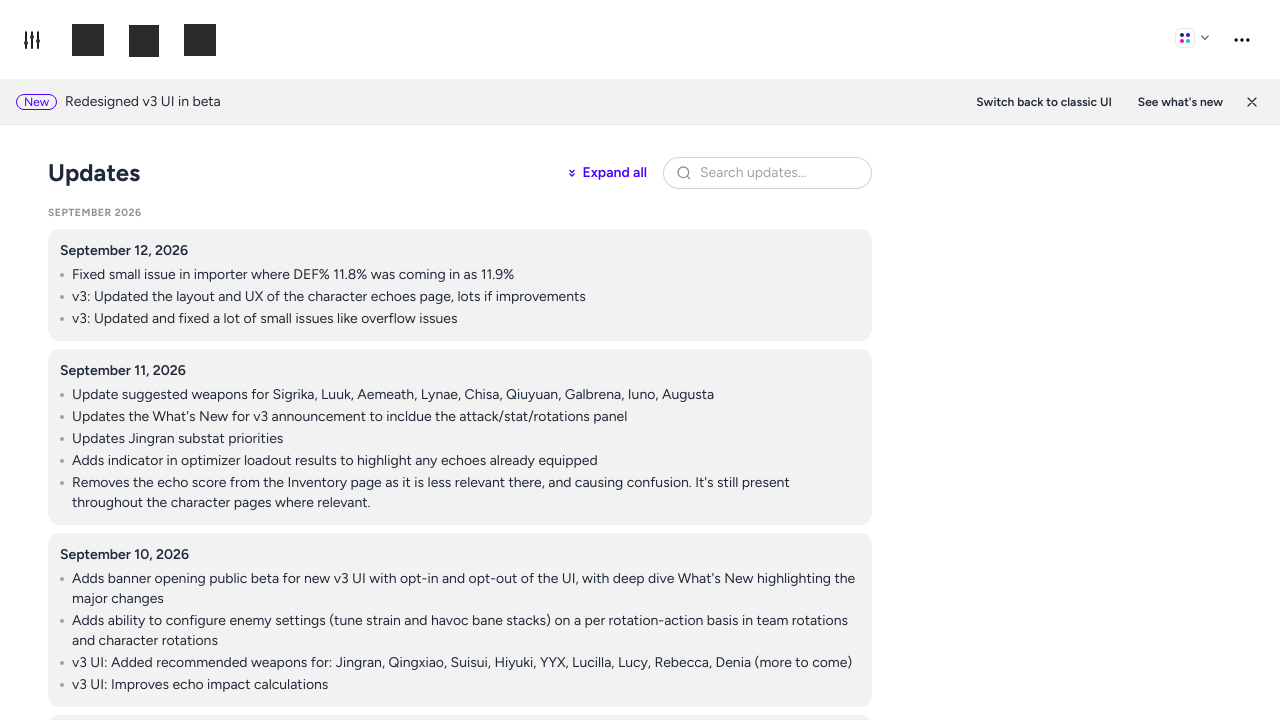
Test: Updates Workspace (liveResultBar flag) › keeps a collapsed month's content in the DOM (not lazy-fetched) and Expand all reveals it, then Collapse all reverses it
The image size is (1280, 720).
Click the button "Expand all": [607, 173] box [566, 163, 647, 183]
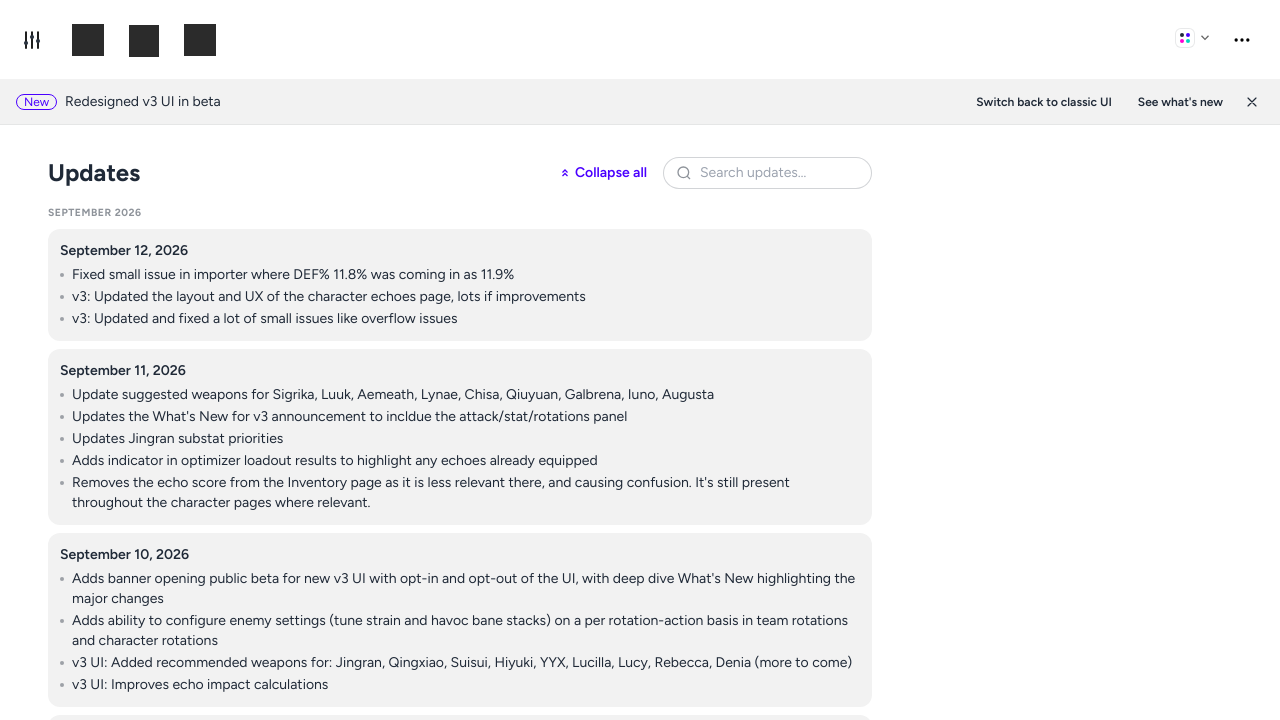
Expected: the button "Collapse all" is shown
Click the button "Collapse all": [603, 173] box [559, 163, 647, 183]
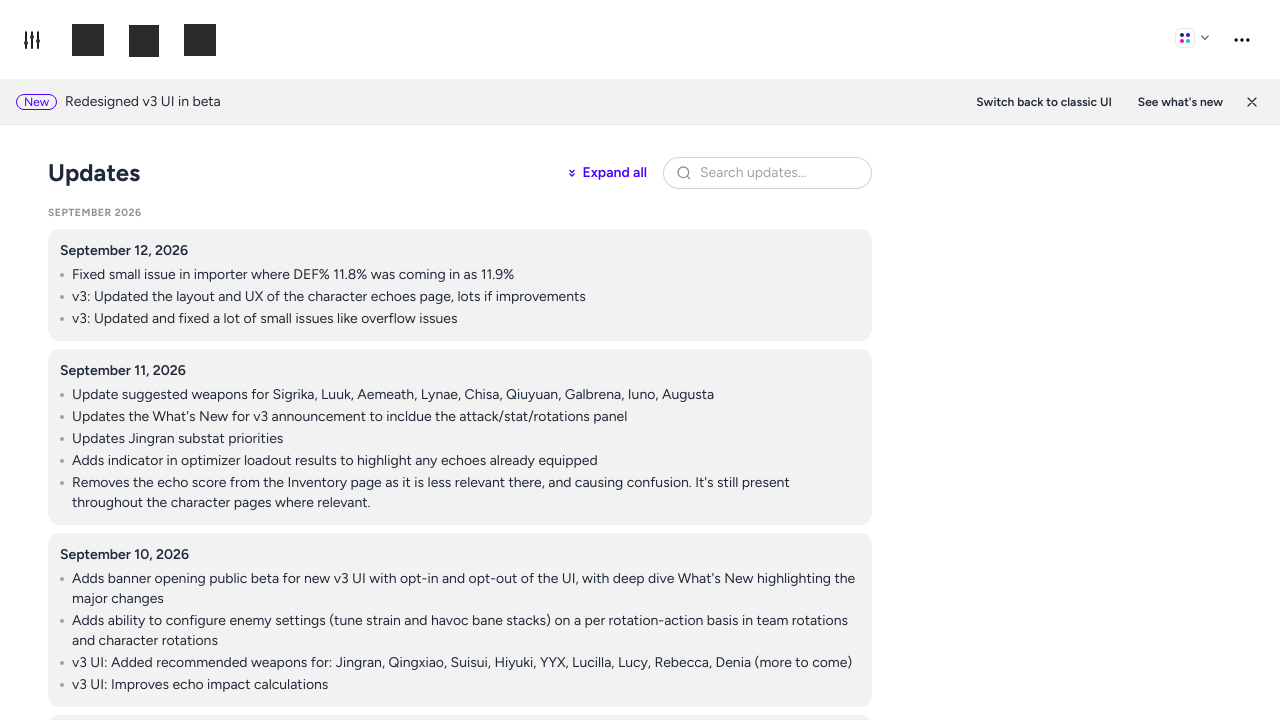
Expected: the button "Expand all" is shown, [566, 163, 647, 183]
